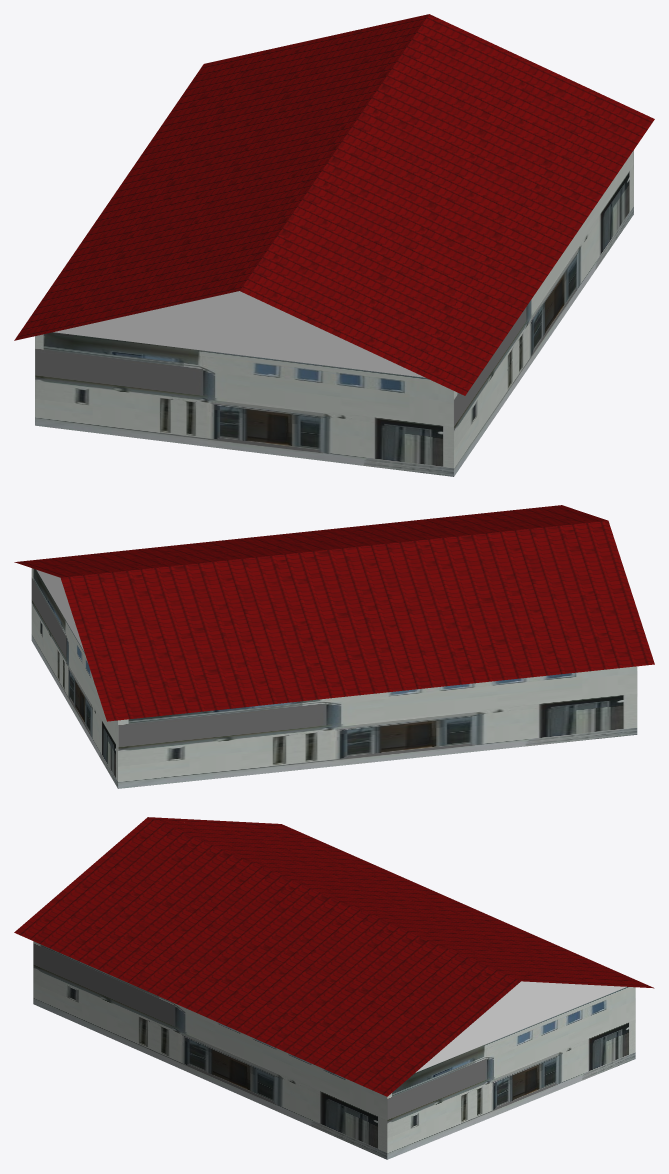
The picture shows the model from 3 angles, top to bottom: view 1: azimuth 30°, elevation 25°; view 2: azimuth 150°, elevation 25°; view 3: azimuth 270°, elevation 25°; orthographic projection. The views are drawn at different scales.
Visible parts, largest first — view 1: CityEngineMaterial_17_m, CityEngineMaterial_11_m, CityEngineMaterial_3_m; view 2: CityEngineMaterial_17_m, CityEngineMaterial_11_m, CityEngineMaterial_3_m; view 3: CityEngineMaterial_17_m, CityEngineMaterial_11_m, CityEngineMaterial_3_m.
Part boxes in pixels (x1,y1,x2,y2): CityEngineMaterial_17_m: (14, 14, 654, 395); CityEngineMaterial_11_m: (35, 150, 633, 476); CityEngineMaterial_3_m: (53, 291, 425, 377); CityEngineMaterial_17_m: (14, 505, 654, 721); CityEngineMaterial_11_m: (31, 568, 637, 788); CityEngineMaterial_3_m: (36, 570, 84, 651); CityEngineMaterial_17_m: (14, 817, 654, 1096); CityEngineMaterial_11_m: (33, 941, 635, 1159); CityEngineMaterial_3_m: (416, 981, 626, 1072).
Size of the model in its own units: 45.63 by 10.32 by 45.3.
